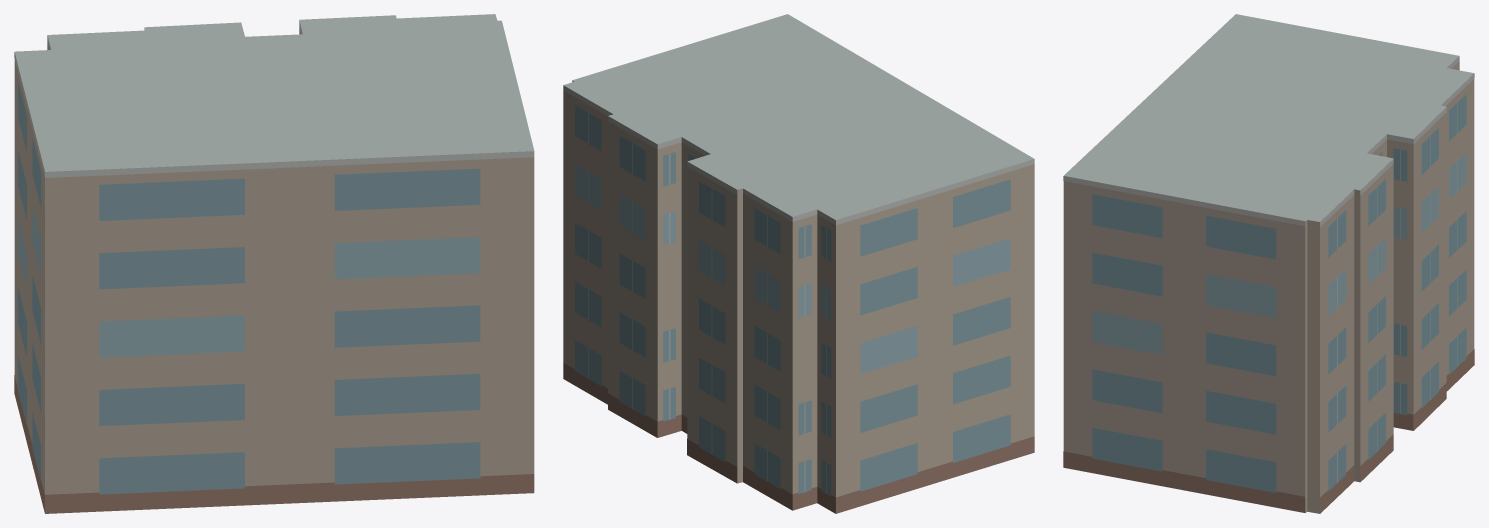
File: survey-upis-32659027.glb
3 views of the same model, side by side, from view 1: azimuth 30°, elevation 25°; view 2: azimuth 150°, elevation 25°; view 3: azimuth 270°, elevation 25° (orthographic). The views are drawn at different scales.
Parts seen in each view (by area): view 1: survey-upis-32659027.tmp; view 2: survey-upis-32659027.tmp; view 3: survey-upis-32659027.tmp.
Part boxes in pixels (x1,y1,x2,y2): survey-upis-32659027.tmp: [14, 14, 534, 513]; survey-upis-32659027.tmp: [563, 14, 1034, 513]; survey-upis-32659027.tmp: [1063, 14, 1474, 513].
Size of the model in its own units: 21.1 by 13.8 by 17.62.
